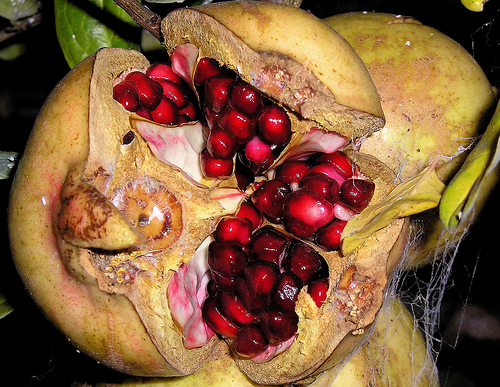pomogranate: (5, 2, 407, 386), (257, 105, 291, 147)
